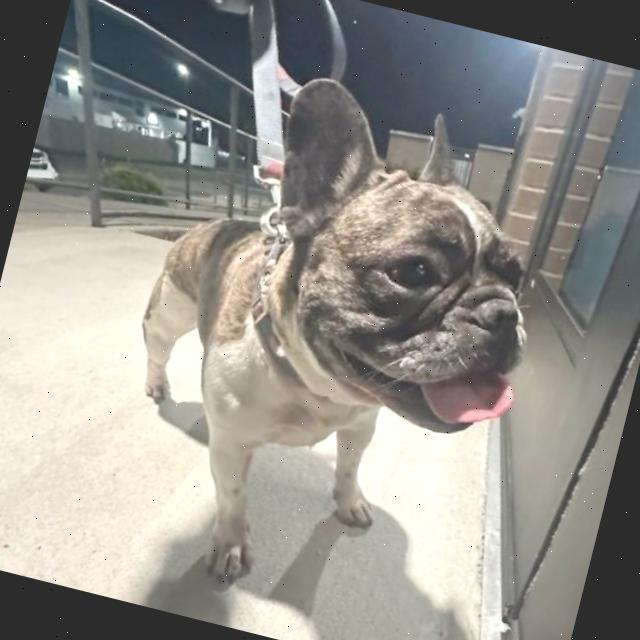french_bulldog_dog: (194, 49, 602, 468)
